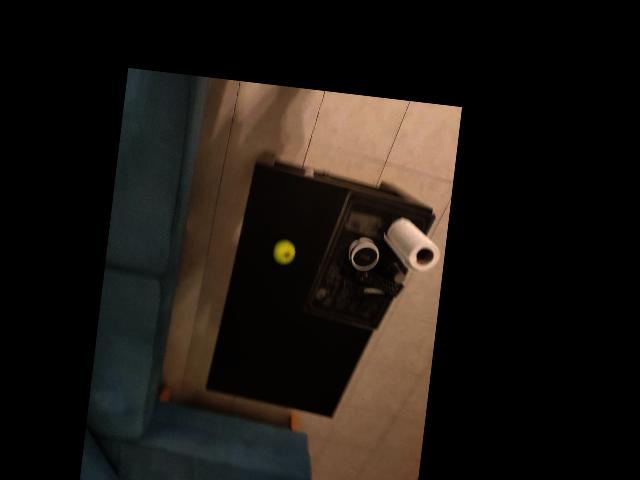apple: (356, 352, 443, 414)
